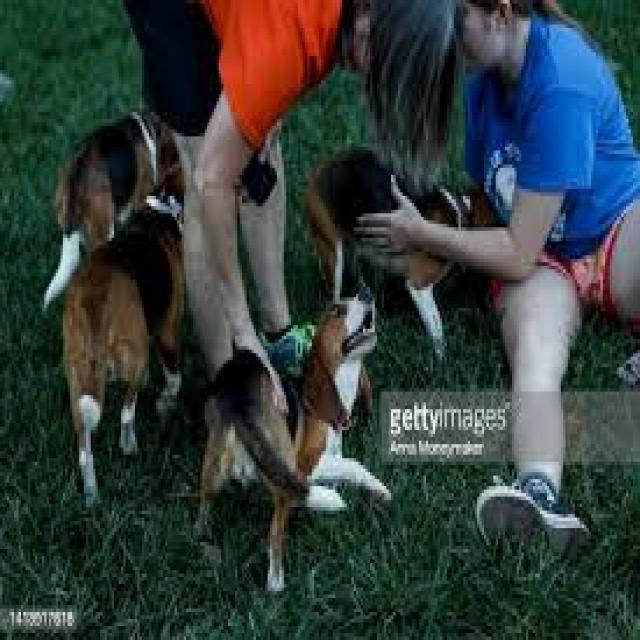Dog: (202, 275, 393, 599), (309, 138, 473, 357), (60, 217, 184, 498), (52, 92, 201, 228)
